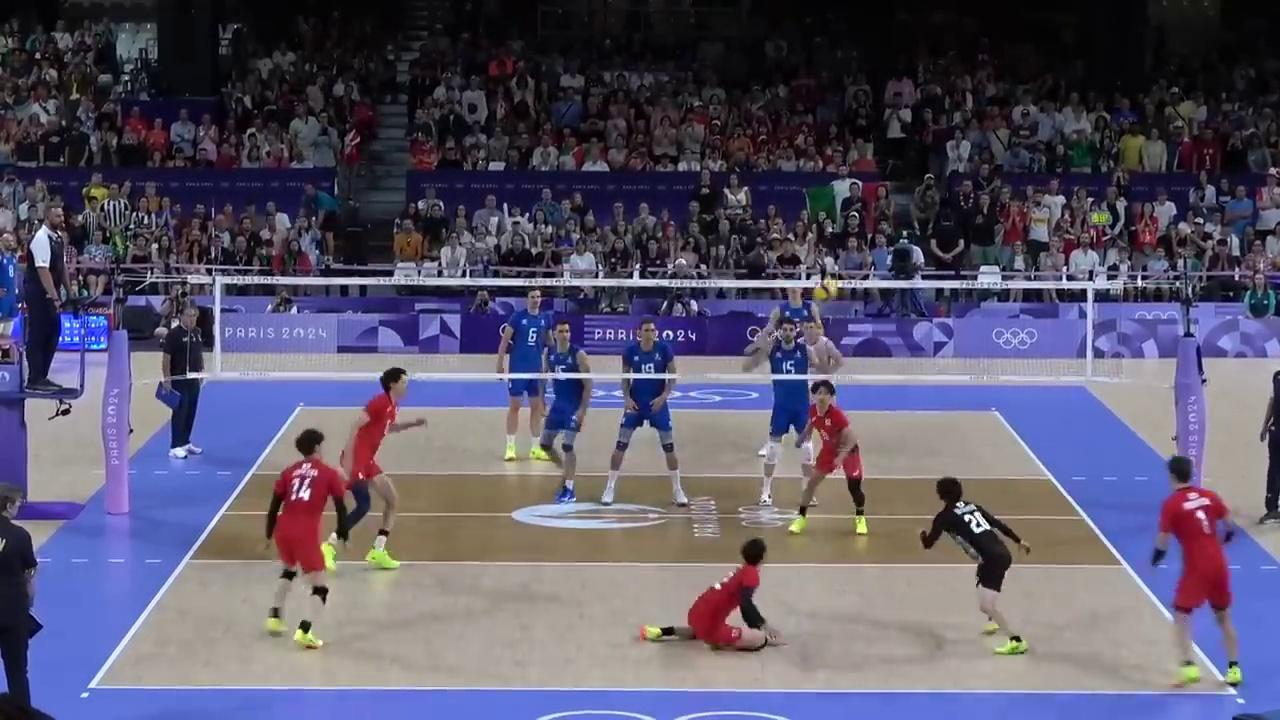ball: (813, 280, 837, 303)
